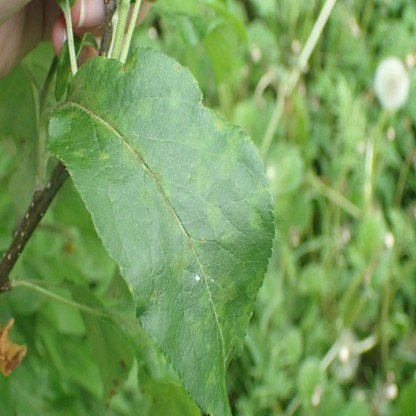frogeye_leaf_spot: (120, 66, 127, 71), (175, 64, 180, 70)
powdery_mildew: (196, 282, 236, 322), (245, 186, 270, 229), (121, 132, 147, 166), (246, 267, 266, 300), (221, 321, 241, 351), (172, 251, 188, 282), (238, 303, 254, 334), (206, 199, 222, 227), (135, 96, 152, 119), (204, 360, 217, 388), (141, 183, 154, 207), (72, 147, 87, 161), (188, 315, 202, 330), (99, 148, 110, 159), (149, 289, 157, 301), (206, 342, 212, 352)
scab: (61, 67, 123, 134), (212, 110, 249, 179), (185, 123, 214, 192), (148, 158, 169, 201), (94, 55, 107, 75), (169, 89, 181, 109)
